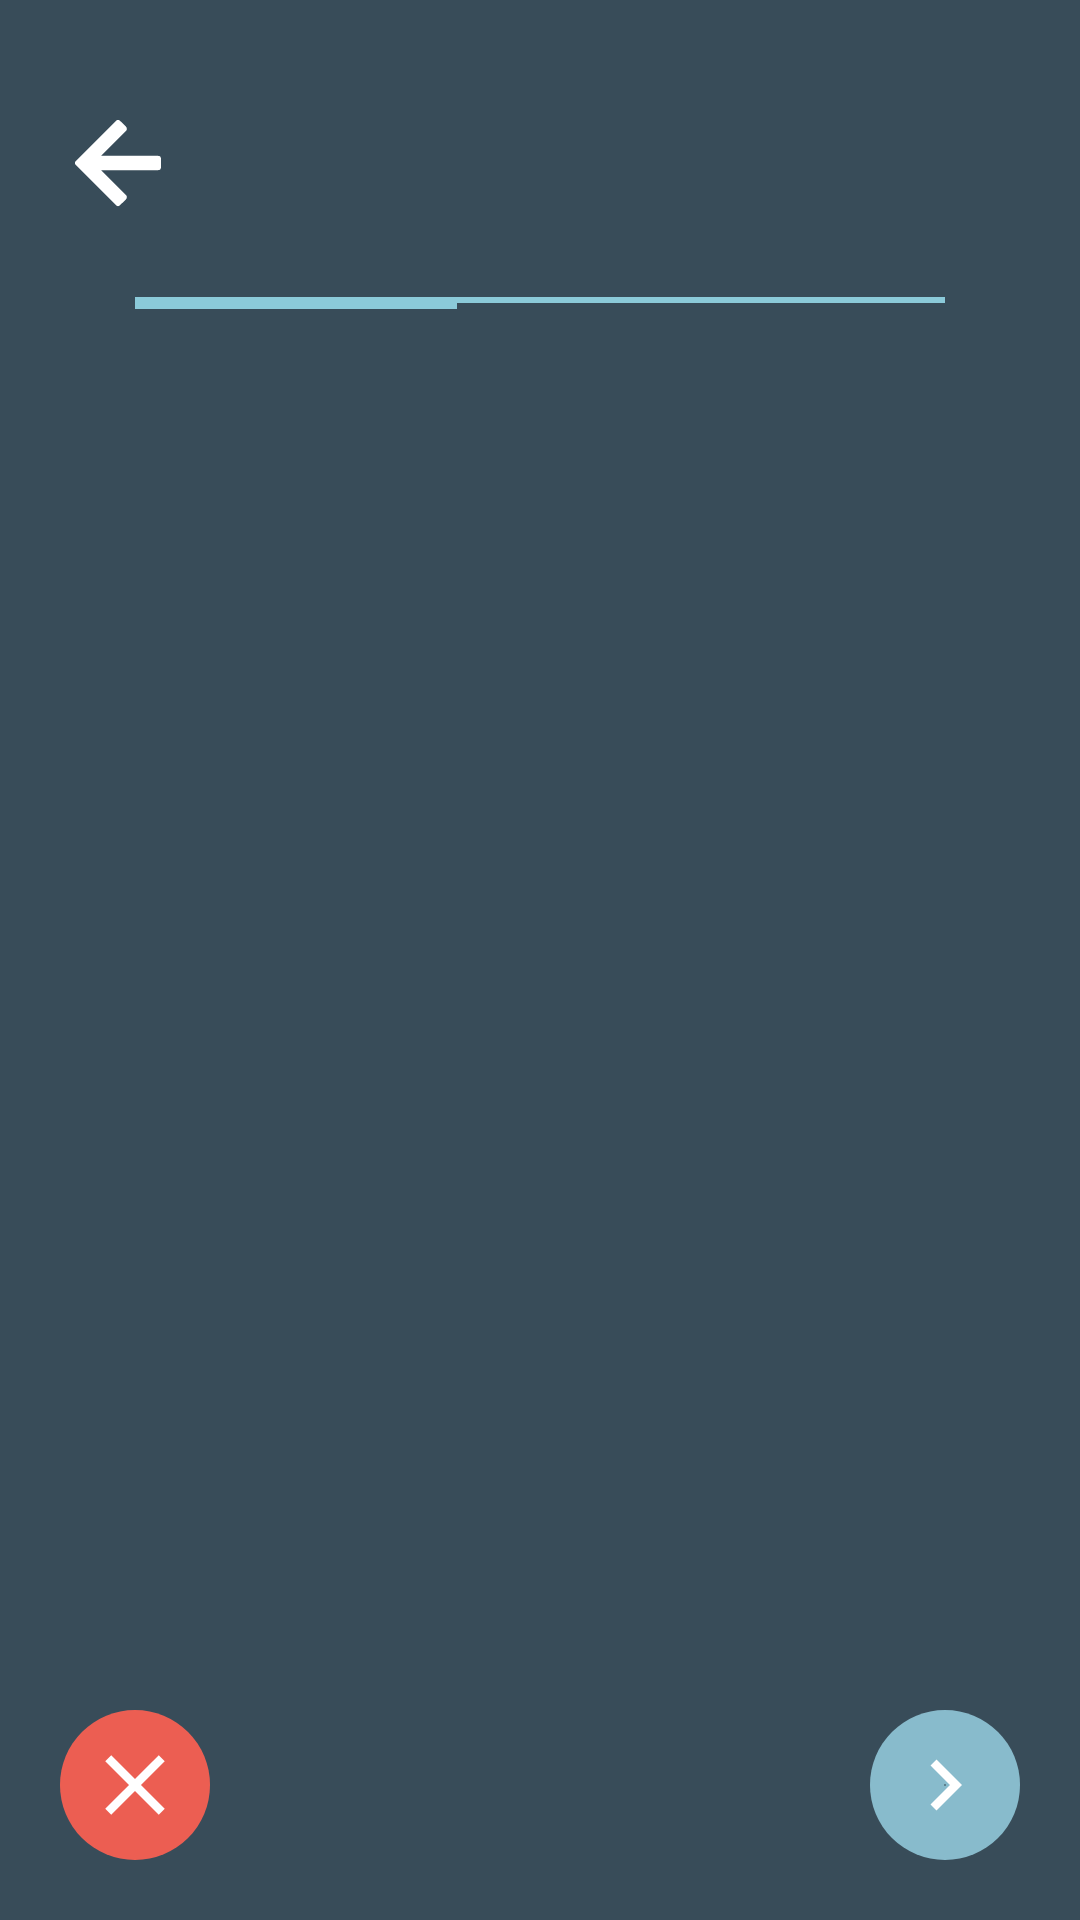

Icon bounding boxes for this 1080x1920 phone screenshot, format region(x1, y1, x2, y2):
Botão Avançar: region(870, 1710, 1020, 1860)
Botão Cancelar: region(60, 1710, 210, 1860)
